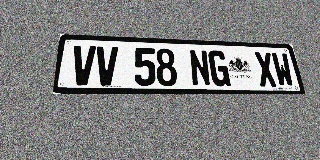5: (135, 47, 156, 86)
8: (155, 48, 177, 86)
G: (208, 50, 231, 86)
N: (189, 49, 211, 86)
V: (70, 45, 96, 85), (95, 46, 118, 86)
W: (271, 52, 295, 87)
X: (254, 52, 278, 87)
